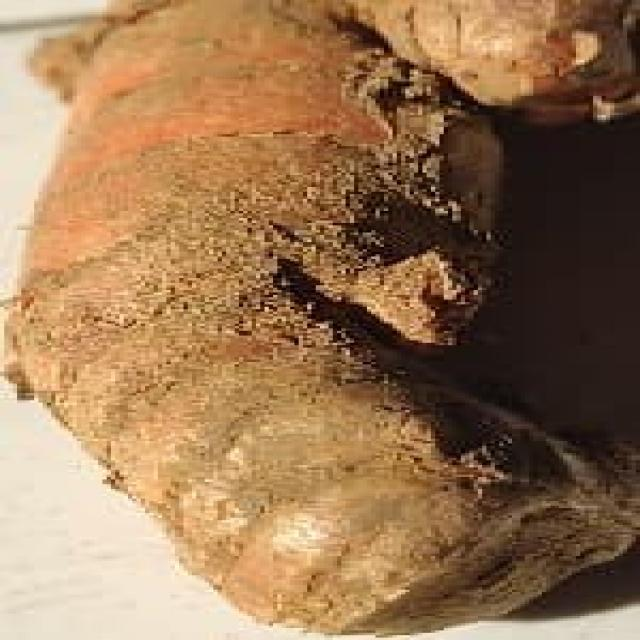ginger: (48, 2, 624, 584)
